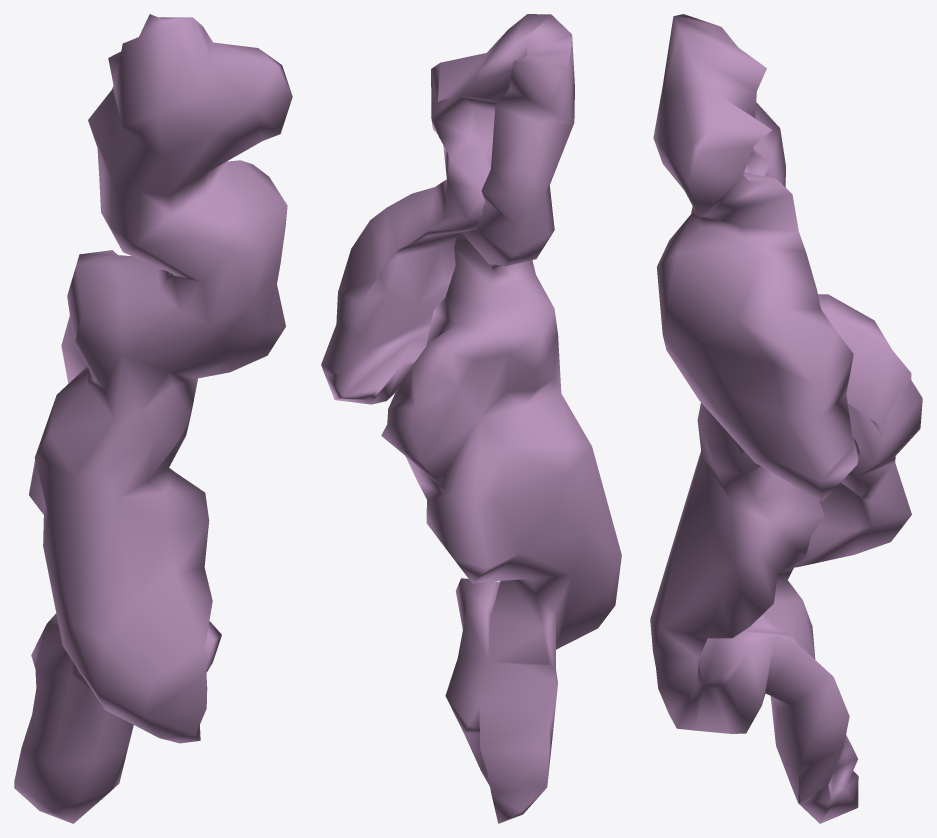
The picture shows the model from 3 angles, left to right: view 1: azimuth 30°, elevation 25°; view 2: azimuth 150°, elevation 25°; view 3: azimuth 270°, elevation 25°; orthographic projection. The views are drawn at different scales.
Visible parts, largest first — view 1: 左侧岛环状沟; view 2: 左侧岛环状沟; view 3: 左侧岛环状沟.
Boxes of the visible parts, x1,y1,x2,y2 form: 左侧岛环状沟: (14,14,292,823); 左侧岛环状沟: (321,14,621,823); 左侧岛环状沟: (650,14,922,823).
Bounding box in the file's own units: 0.0292 × 0.0875 × 0.0264.
